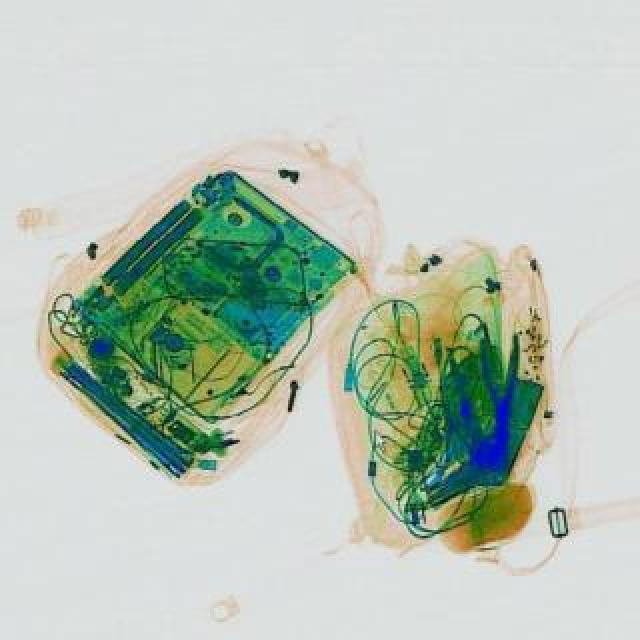wrench: (478, 332, 520, 436)
